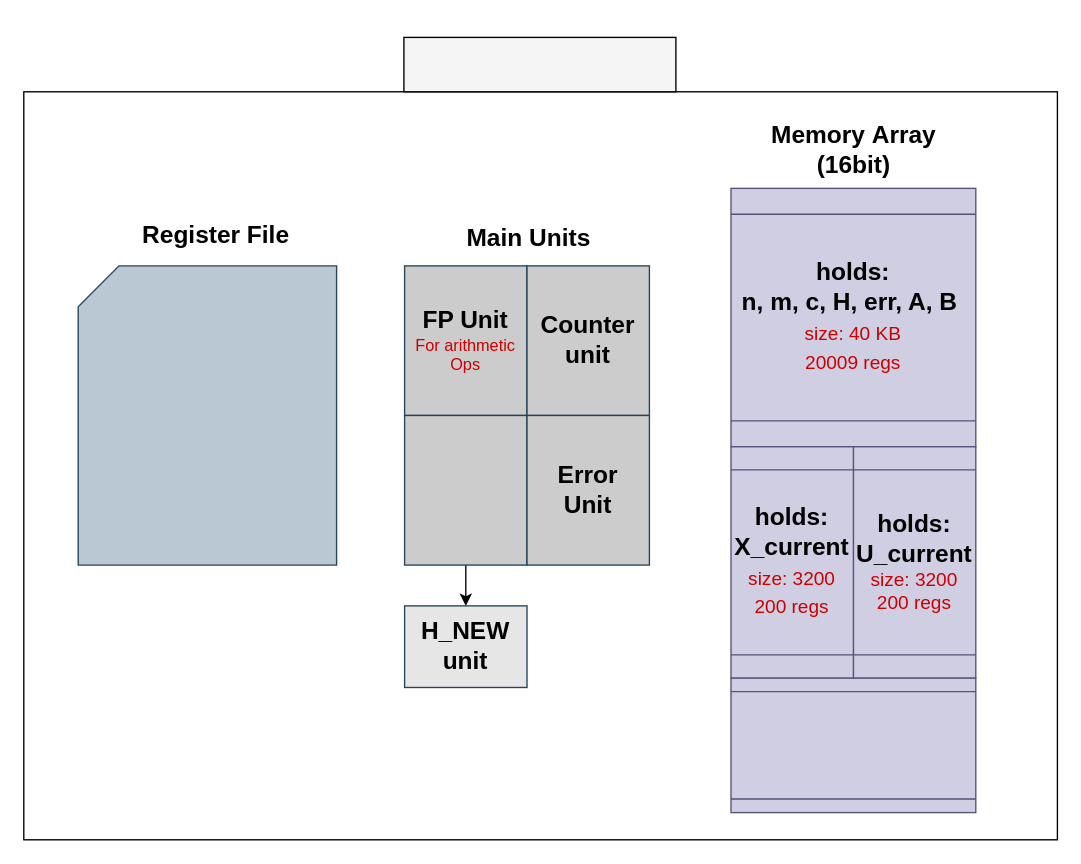
The diagram is 1081 pixels wide and 864 high, and some of its shapes have lost their labels. The box of each missing label's shape, as (x1, y1, x2, y2) in pixels:
holds: X_out size: 16000 1000 Regs: (730, 677, 976, 813)
Next Step unit: (403, 414, 527, 565)
Registers for Data designed later depending on your choice: (77, 265, 337, 565)
Solver: (403, 36, 676, 92)
